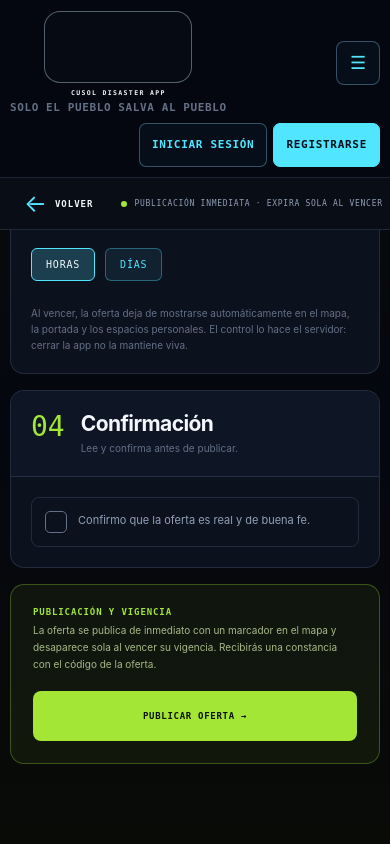
Test: FoodOfferForm (CHG-163) › señala los campos pendientes al intentar publicar vacío
(page scrolled)
Step 1. Click the button with aria-label "Publicar oferta de comida" → x=195, y=716, box [33,691,357,741]
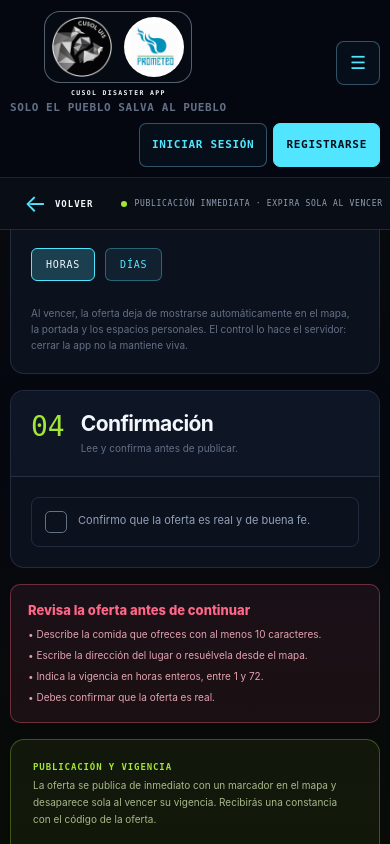
expect the text "Revisa la oferta antes de continuar" is shown: met, box [28,602,250,618]
expect the text "• Escribe la dirección del lugar o resuélvela desde el mapa." is shown: met, box [28,649,308,661]
